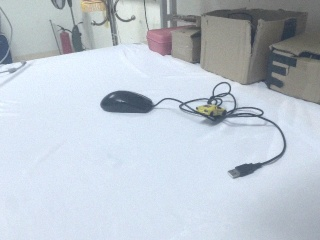box: (199, 5, 309, 87), (263, 31, 320, 108), (171, 24, 202, 64)
mouse: (99, 90, 155, 114)
toy_car: (193, 99, 228, 123)
